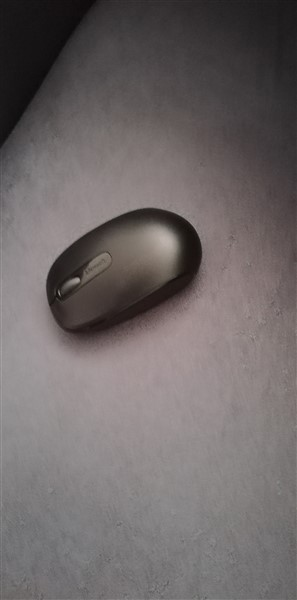mouse: (43, 204, 209, 339)
